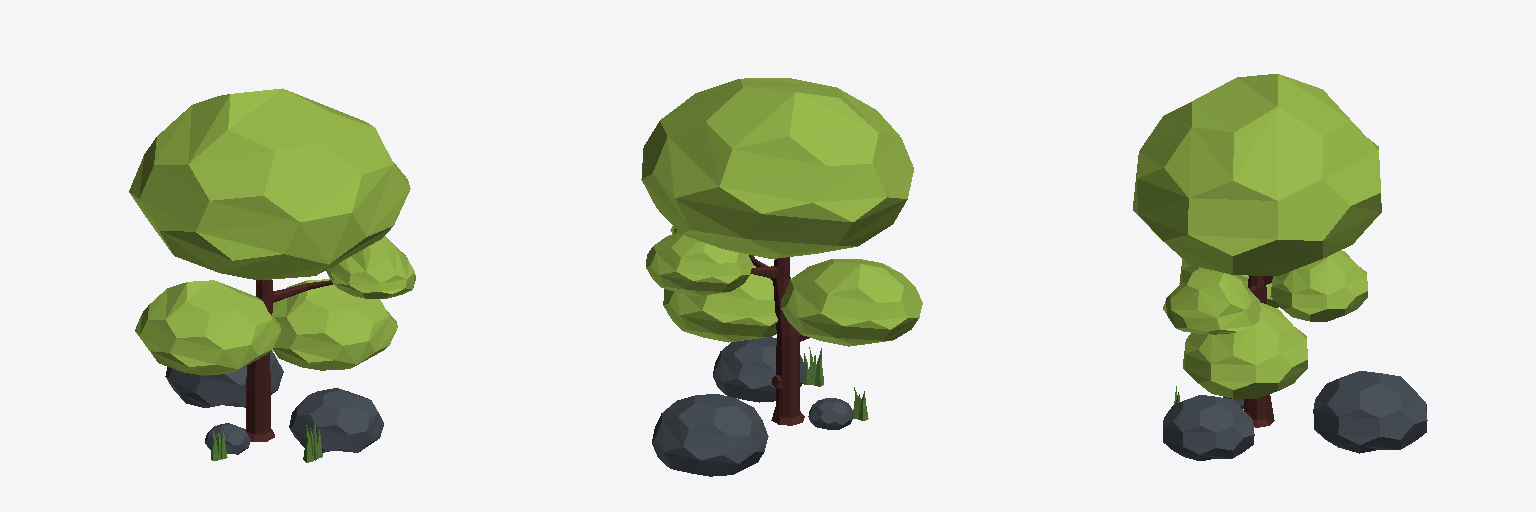
Rendered from tree.obj.
3 views of the same model, side by side, from view 1: azimuth 30°, elevation 25°; view 2: azimuth 150°, elevation 25°; view 3: azimuth 270°, elevation 25° (orthographic).
Visible parts, largest first — view 1: Platonic, Platonic.2, Pyramid.7, Platonic.1, Platonic.3, Null.1; view 2: Platonic, Pyramid.7, Platonic.2, Platonic.1, Platonic.4, Null.1; view 3: Platonic, Pyramid.7, Platonic.1, Platonic.4, Platonic.3, Null.1.
Part boxes in pixels (bbox=[...]): Platonic: bbox=[129, 88, 410, 280]; Platonic.2: bbox=[135, 280, 280, 374]; Pyramid.7: bbox=[165, 350, 383, 462]; Platonic.1: bbox=[272, 279, 397, 370]; Platonic.3: bbox=[326, 236, 415, 298]; Null.1: bbox=[245, 280, 332, 441]; Platonic: bbox=[641, 78, 913, 258]; Pyramid.7: bbox=[652, 337, 868, 476]; Platonic.2: bbox=[781, 259, 922, 346]; Platonic.1: bbox=[663, 262, 777, 342]; Platonic.4: bbox=[646, 233, 752, 295]; Null.1: bbox=[749, 255, 809, 425]; Platonic: bbox=[1133, 74, 1381, 275]; Pyramid.7: bbox=[1163, 371, 1427, 460]; Platonic.1: bbox=[1183, 302, 1307, 398]; Platonic.4: bbox=[1270, 250, 1367, 321]; Platonic.3: bbox=[1163, 268, 1260, 334]; Null.1: bbox=[1244, 276, 1274, 427].
Bounding box in the file's own units: 12.32 × 15.52 × 12.25.